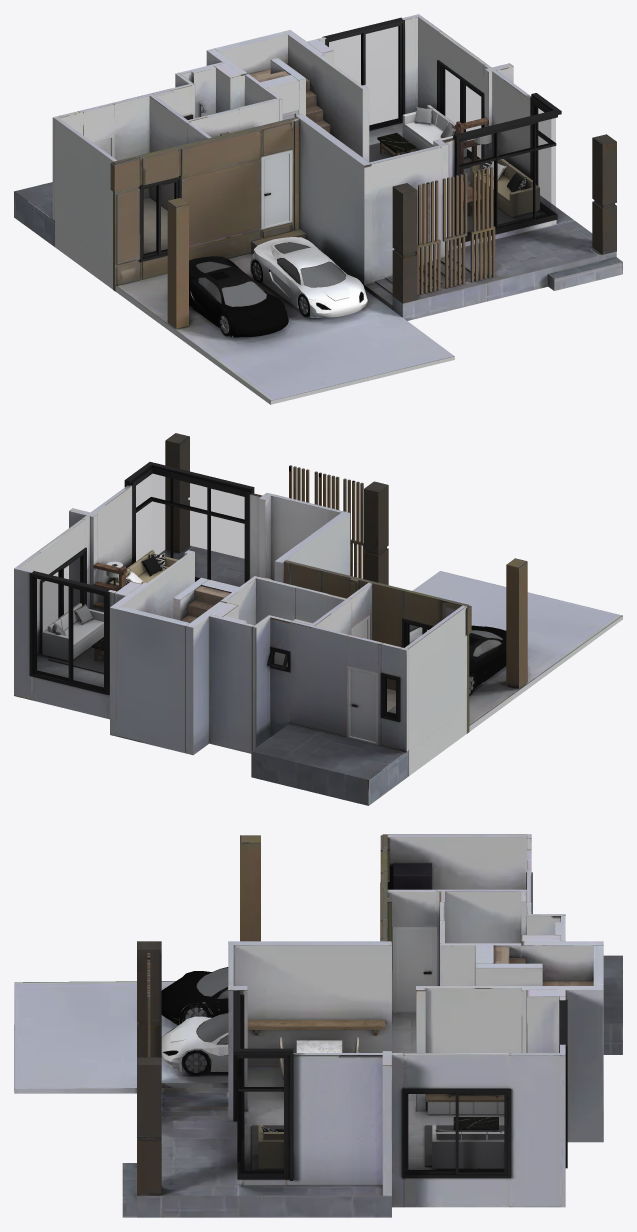
Rendered from SH2511_1stFloorBaked_v04.gltf.
The picture shows the model from 3 angles, top to bottom: view 1: azimuth 30°, elevation 25°; view 2: azimuth 150°, elevation 25°; view 3: azimuth 270°, elevation 25°; orthographic projection. The views are drawn at different scales.
Parts seen in each view (by area): view 1: floor1_Geo, mirror_floor1, metal_floor1, car1, car2, sofa_floor1, wood_floor1, mon_floor1, table_floor1, stair_floor1; view 2: floor1_Geo, mirror_floor1, metal_floor1, wood_floor1, sofa_floor1, car2, mon_floor1, stair_floor1, table_floor1; view 3: floor1_Geo, mirror_floor1, metal_floor1, wood_floor1, sofa_floor1, car1, car2, table_floor1, mon_floor1, kichen_floor1, stair_floor1.
Boxes of the visible parts, x1,y1,x2,y2 form: floor1_Geo: (14,14,622,404); mirror_floor1: (144,26,555,254); metal_floor1: (139,17,561,262); car1: (250,237,367,317); car2: (189,256,288,337); sofa_floor1: (402,105,539,217); wood_floor1: (90,110,298,229); mon_floor1: (369,107,541,232); table_floor1: (377,118,488,216); stair_floor1: (249,65,330,133); floor1_Geo: (14,433,622,805); mirror_floor1: (36,474,427,715); metal_floor1: (29,462,433,722); wood_floor1: (263,577,378,744); sofa_floor1: (42,550,178,661); car2: (469,625,506,695); mon_floor1: (48,553,165,673); stair_floor1: (180,585,230,622); table_floor1: (91,562,127,660); floor1_Geo: (14,834,622,1217); mirror_floor1: (239,1058,503,1172); metal_floor1: (233,872,567,1180); wood_floor1: (279,927,504,1114); sofa_floor1: (258,1125,504,1169); car1: (161,1013,228,1075); car2: (161,967,228,1025); table_floor1: (247,1020,498,1134); mon_floor1: (252,1125,504,1170); kichen_floor1: (393,863,431,889); stair_floor1: (493,946,593,985).
Size of the model in its own units: 12.54 by 3.97 by 13.91.
11 materials, 11 textured.
